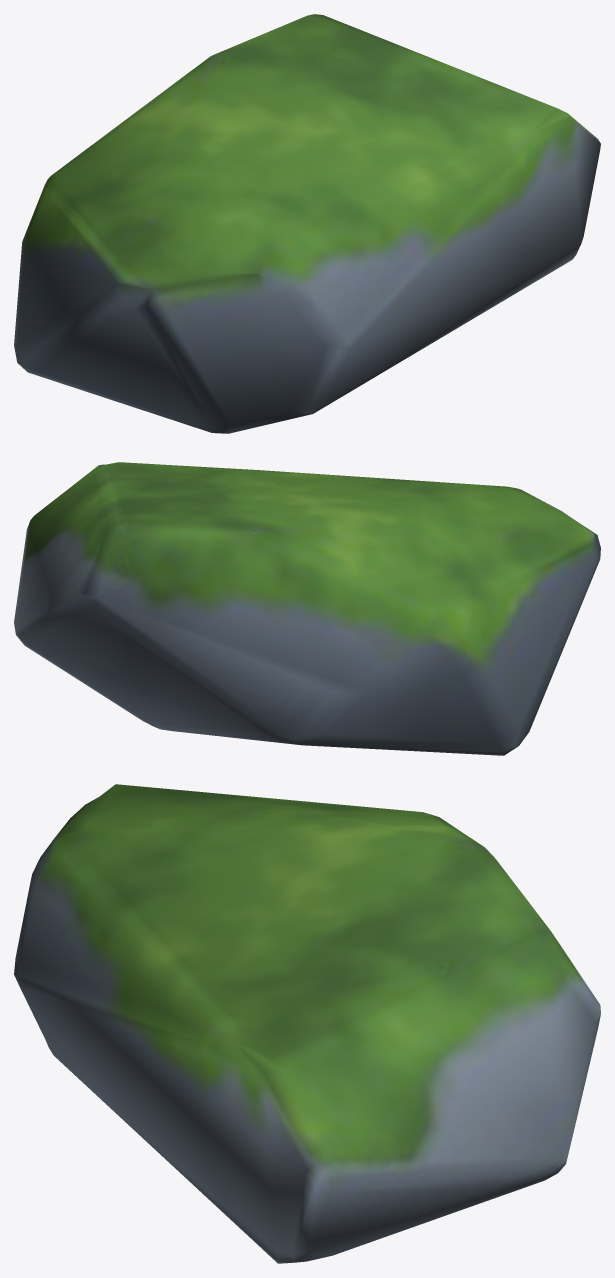
Rendered from rock_b_lod1.glb.
3 renders of one model, top to bottom at view 1: azimuth 30°, elevation 25°; view 2: azimuth 150°, elevation 25°; view 3: azimuth 270°, elevation 25°, orthographic. The views are drawn at different scales.
Visible parts, largest first — view 1: rock_b_lod1; view 2: rock_b_lod1; view 3: rock_b_lod1.
Boxes of the visible parts, left/top/right/bottom form: rock_b_lod1: left=14, top=14, right=600, bottom=433; rock_b_lod1: left=14, top=462, right=600, bottom=755; rock_b_lod1: left=14, top=784, right=600, bottom=1263.
Size of the model in its own units: 1.19 by 0.4668 by 0.8872.
1 material, 1 textured.
